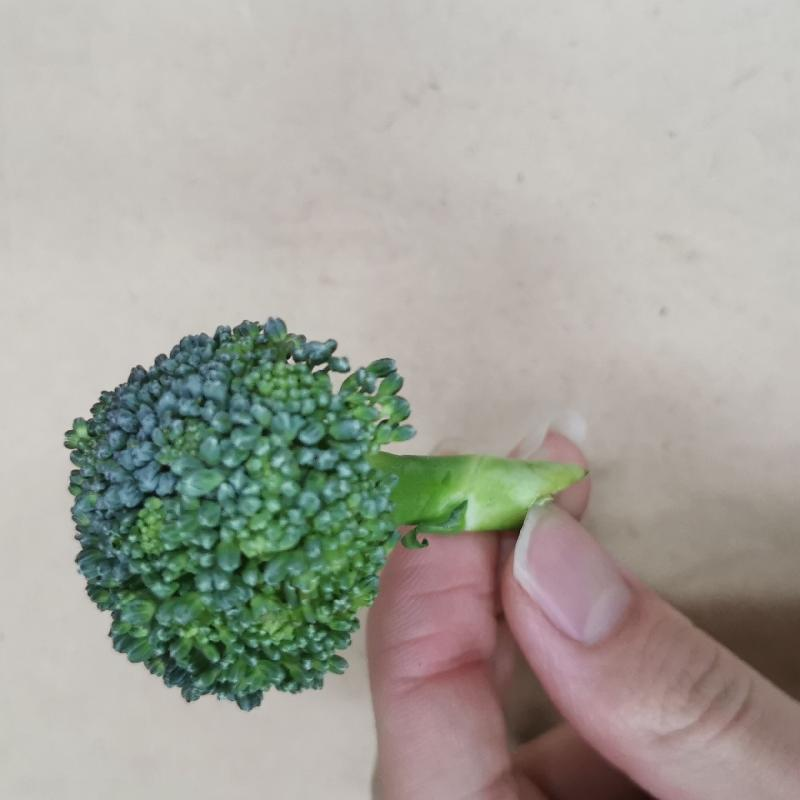broccoli: (47, 314, 589, 704)
